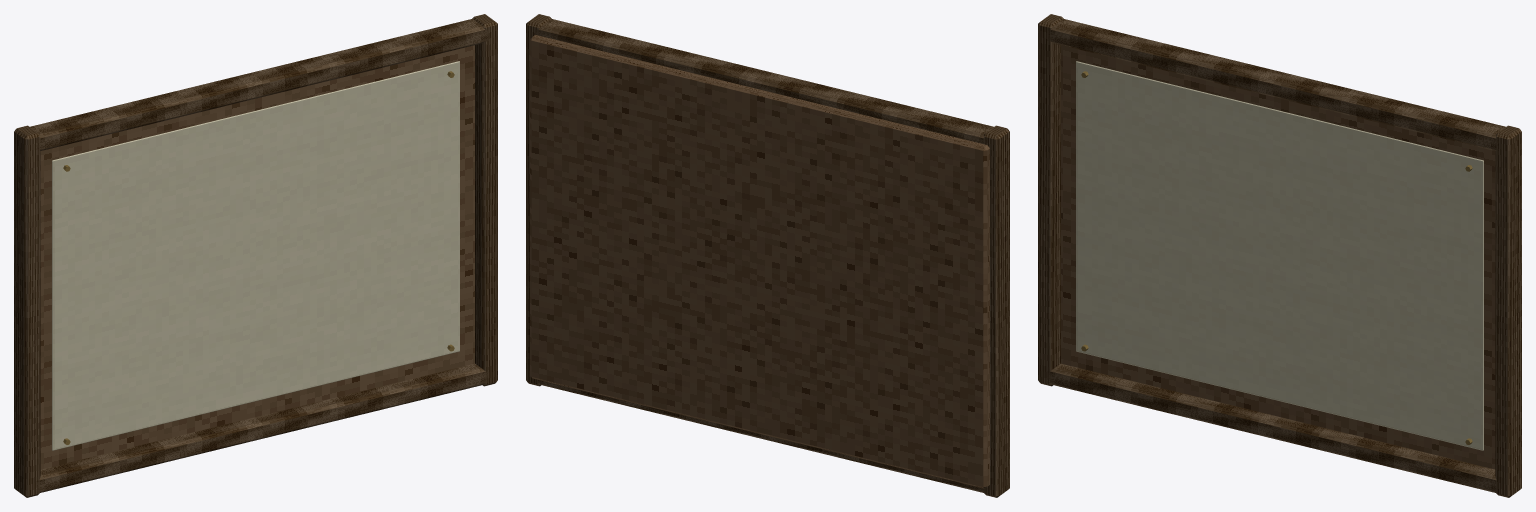
Rendered from blender_site_map_fixed.glb.
3 renders of one model, left to right at view 1: azimuth 30°, elevation 25°; view 2: azimuth 150°, elevation 25°; view 3: azimuth 330°, elevation 25°, orthographic.
Visible parts, largest first — view 1: blender_site_map_fixed; view 2: blender_site_map_fixed; view 3: blender_site_map_fixed.
Part boxes in pixels (box(x1,y1,x2,y2)): blender_site_map_fixed: box(14, 14, 497, 497); blender_site_map_fixed: box(526, 14, 1009, 497); blender_site_map_fixed: box(1038, 14, 1521, 497).
Bounding box in the file's own units: 0.725 × 0.53 × 0.046.
4 materials, 4 textured.
